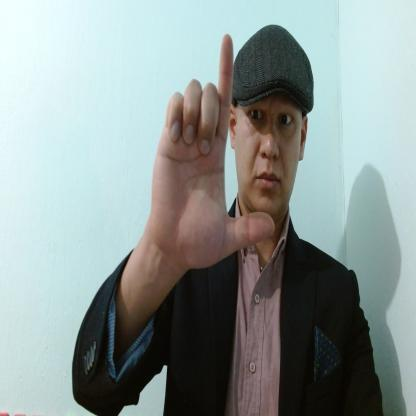L: (151, 32, 276, 268)
